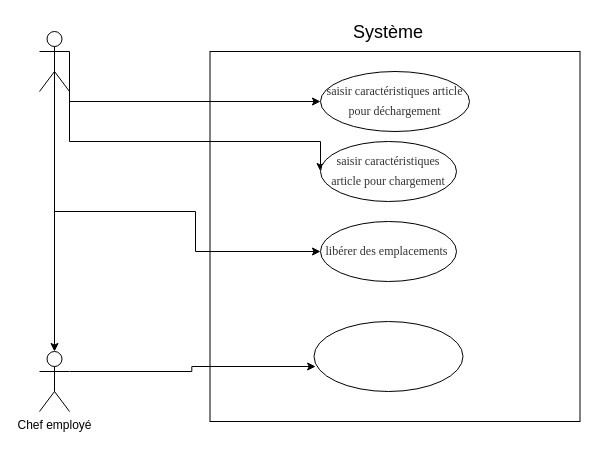
The diagram is 597 pixels wide and 449 high, and some of its shapes have lost their labels. The centre of each missing label's shape, as x and y in pixels:
Employé: the point at 54,61
superviser la bonne application des consignes: the point at 388,356
